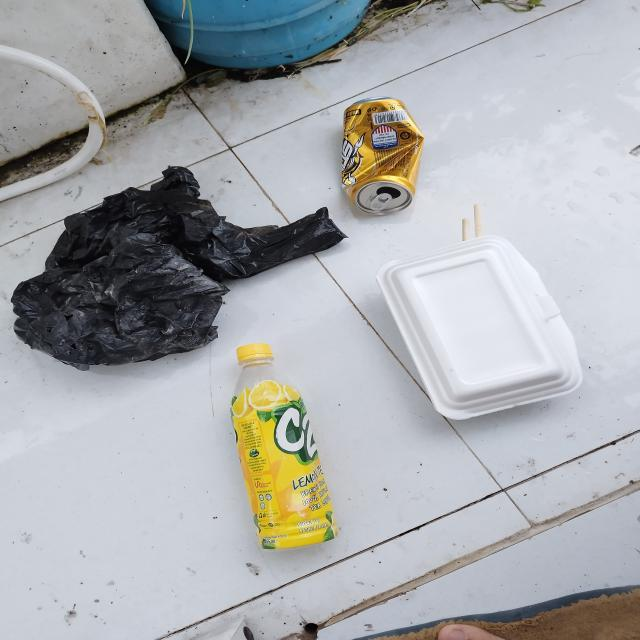bag: (11, 163, 351, 371)
bottle: (230, 342, 340, 552)
can: (342, 98, 424, 214)
foam box: (377, 235, 586, 422)
